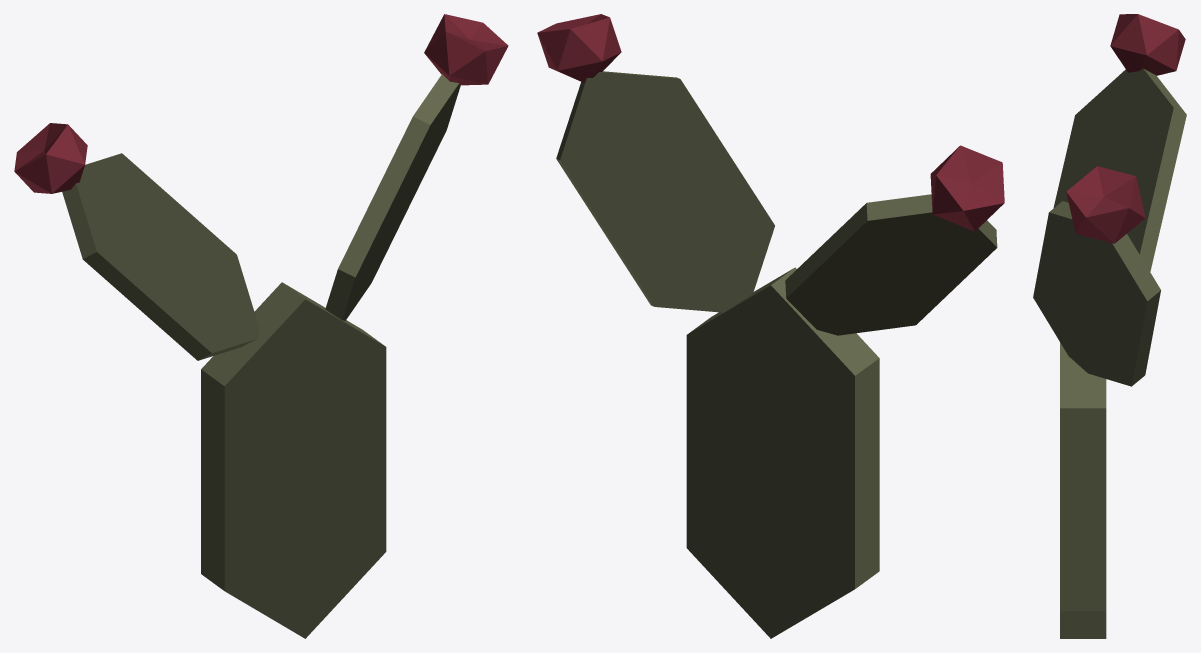
File: TB_D_Env_CactusF_C.FBX
3 renders of one model, left to right at view 1: azimuth 30°, elevation 25°; view 2: azimuth 150°, elevation 25°; view 3: azimuth 270°, elevation 25°, orthographic. The views are drawn at different scales.
Parts seen in each view (by area): view 1: TB_D_Env_CactusF_C; view 2: TB_D_Env_CactusF_C; view 3: TB_D_Env_CactusF_C.
Boxes of the visible parts, box(x1,y1,x2,y2) form: TB_D_Env_CactusF_C: box(14, 14, 508, 638); TB_D_Env_CactusF_C: box(537, 14, 1004, 638); TB_D_Env_CactusF_C: box(1033, 14, 1186, 638).
Size of the model in its own units: 0.9513 by 1.09 by 0.2765.
